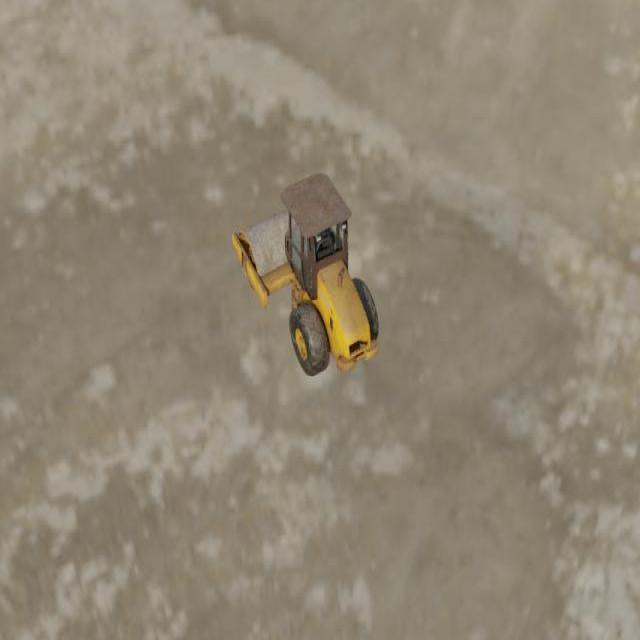Roller: (231, 172, 379, 377)
